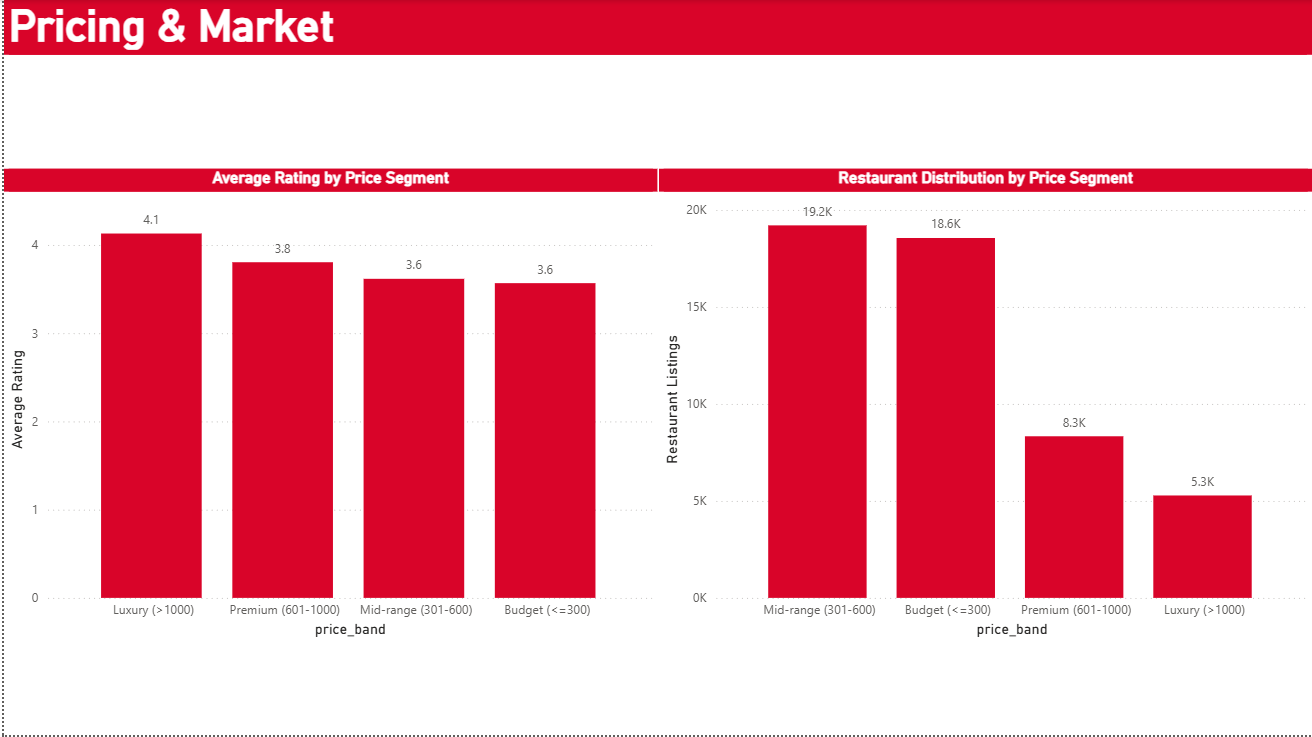

Layout of this report page (visuals, bound fields, positions):
{"tool":"powerbi","page":{"name":"Pricing & Market","canvas":[1280,720],"ordinal":2},"visuals":[{"type":"clusteredColumnChart","title":"Average Rating by Price Segment","fields":{"Category":["zomato_cleaned_final.price_band"],"Y":["zomato_cleaned_final.Average Rating"]},"box":[0,164.7,639.5,463.8],"z":0},{"type":"clusteredColumnChart","title":"Restaurant Distribution by Price Segment","fields":{"Category":["zomato_cleaned_final.price_band"],"Y":["zomato_cleaned_final.Total Restaurants"]},"box":[640.8,164.7,639.5,463.8],"z":1000},{"type":"textbox","title":"Pricing & Market","box":[0,0,1279.7,54.9],"z":3500}]}

Visuals, with their boxes in screenshot pixels (x1, y1, x2, y2), scaled from the page's 1280x720 canvas onto the 1312x737 screenshot:
"Average Rating by Price Segment" clusteredColumnChart: Rect(0, 169, 655, 643)
"Restaurant Distribution by Price Segment" clusteredColumnChart: Rect(657, 169, 1311, 643)
"Pricing & Market" textbox: Rect(0, 0, 1311, 56)
